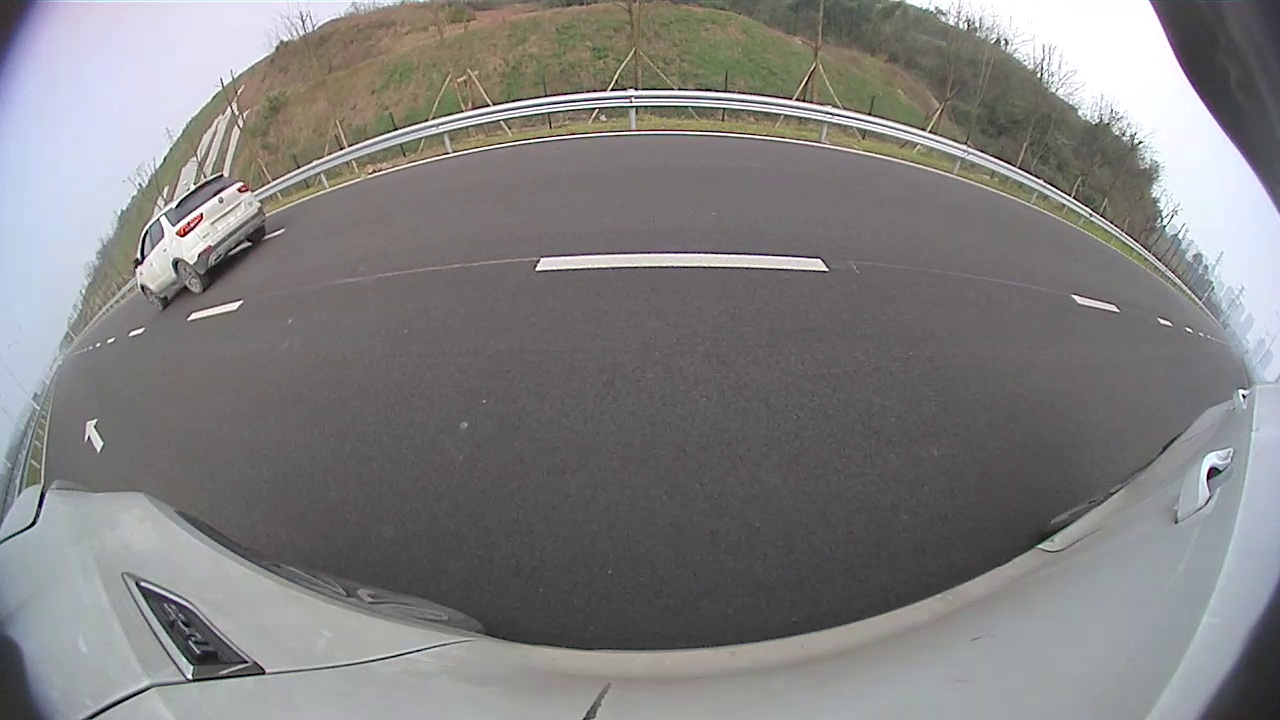car: (133, 172, 268, 312)
rear: (174, 259, 205, 294)
